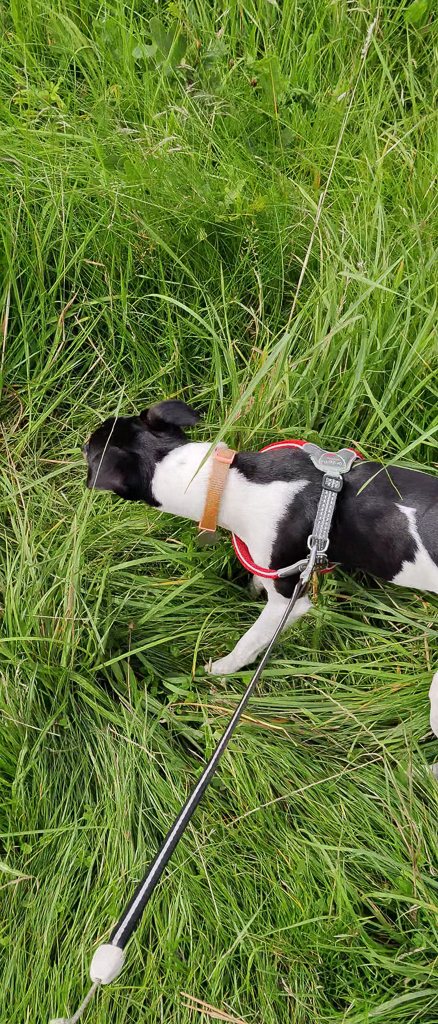Dog: (58, 388, 438, 746)
